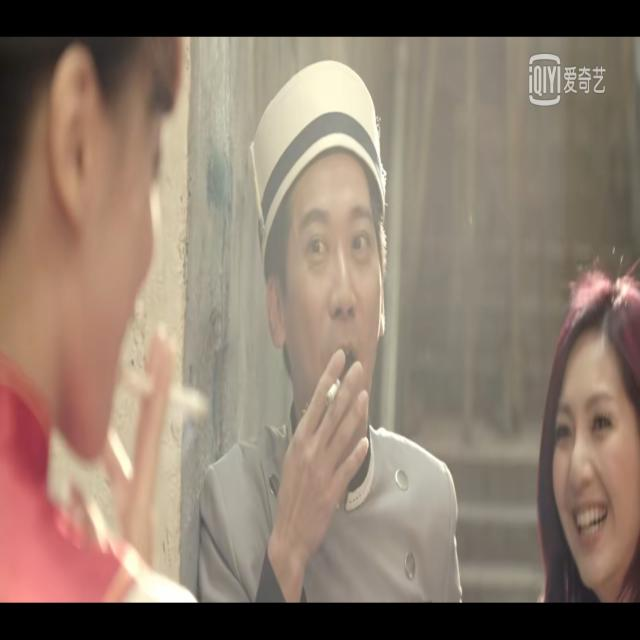smoke: (323, 380, 340, 414)
